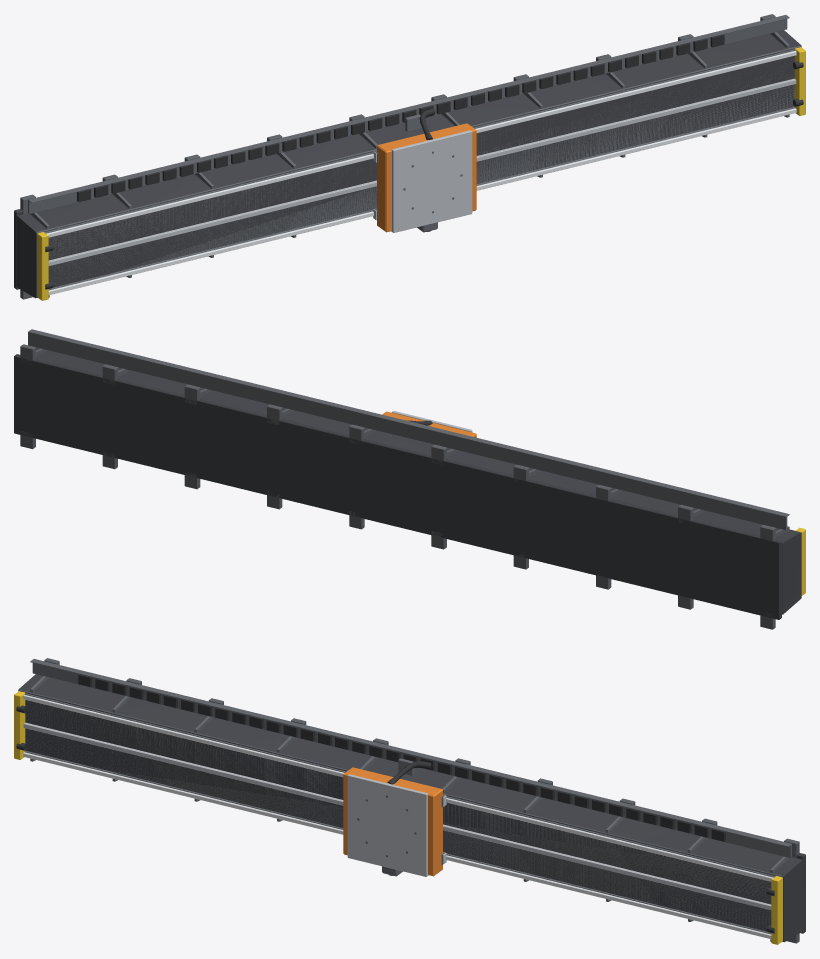
File: rail.glb
3 renders of one model, top to bottom at view 1: azimuth 30°, elevation 25°; view 2: azimuth 150°, elevation 25°; view 3: azimuth 330°, elevation 25°, orthographic.
Visible parts, largest first — view 1: static, carriage; view 2: static, carriage; view 3: static, carriage.
Boxes of the visible parts, bbox=[...] form: static: bbox=[14, 14, 805, 300]; carriage: bbox=[373, 108, 476, 232]; static: bbox=[14, 329, 805, 629]; carriage: bbox=[382, 410, 476, 437]; static: bbox=[14, 658, 805, 944]; carriage: bbox=[343, 758, 446, 876].
Size of the model in its own units: 8.36 by 1.13 by 0.691.
